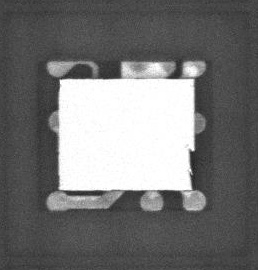DIE_BROKEN: (187, 148, 195, 190)
